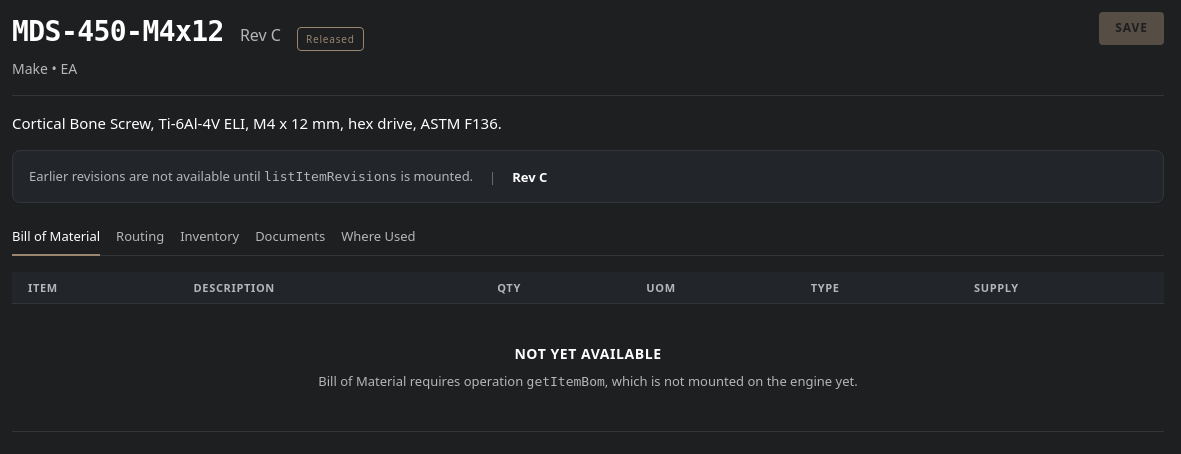
Test case: item master screen › shows getOnHand totals on the inventory tab
The image size is (1181, 454).
Check: the heading "MDS-450-M4x12" is shown, box x1=12 y1=12 x2=224 y2=51
Click the tab "Inventory" at (210, 238), box x1=180 y1=220 x2=239 y2=256
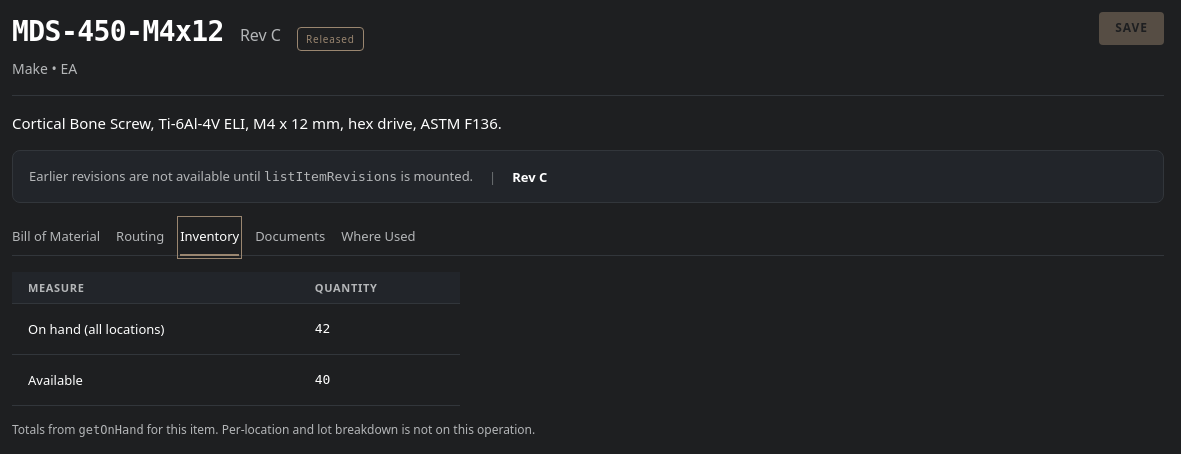
Check: the text "42" is shown, box x1=299 y1=304 x2=460 y2=355
Check: the text "40" is shown, box x1=299 y1=355 x2=460 y2=406
Check: the text "getOnHand" is shown, box x1=79 y1=423 x2=144 y2=437
